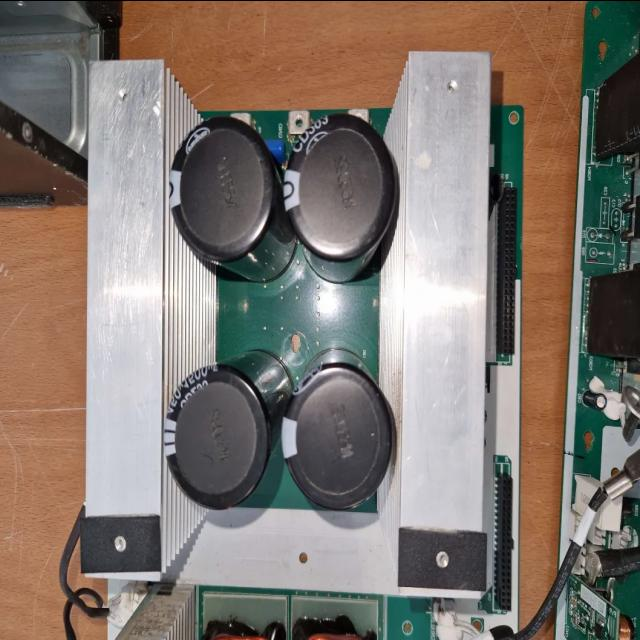A: (198, 616, 284, 640), (290, 619, 378, 640)
C: (168, 114, 290, 278), (166, 350, 288, 504), (289, 116, 395, 279), (286, 358, 393, 511)
